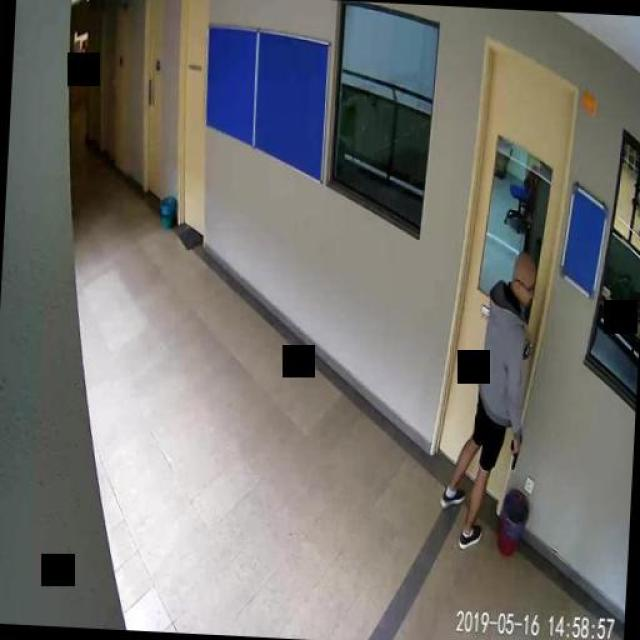gun: (509, 433, 521, 468)
